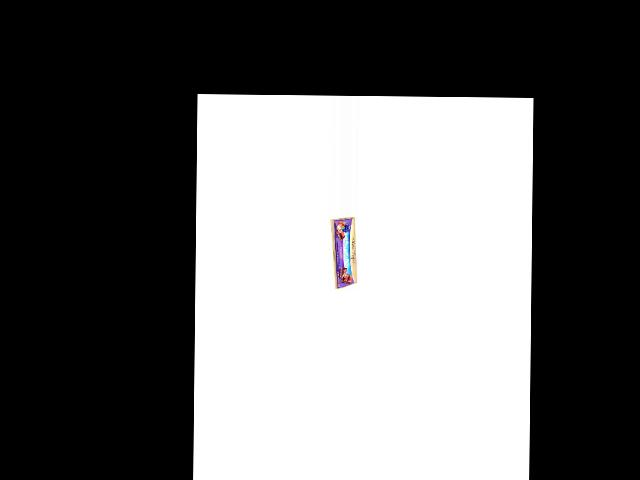chocolate: (329, 216, 354, 292)
